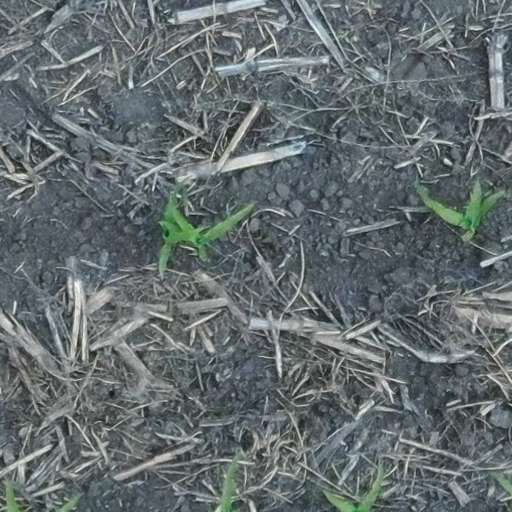planta: (416, 177, 506, 240), (157, 176, 204, 281), (170, 203, 254, 256)
